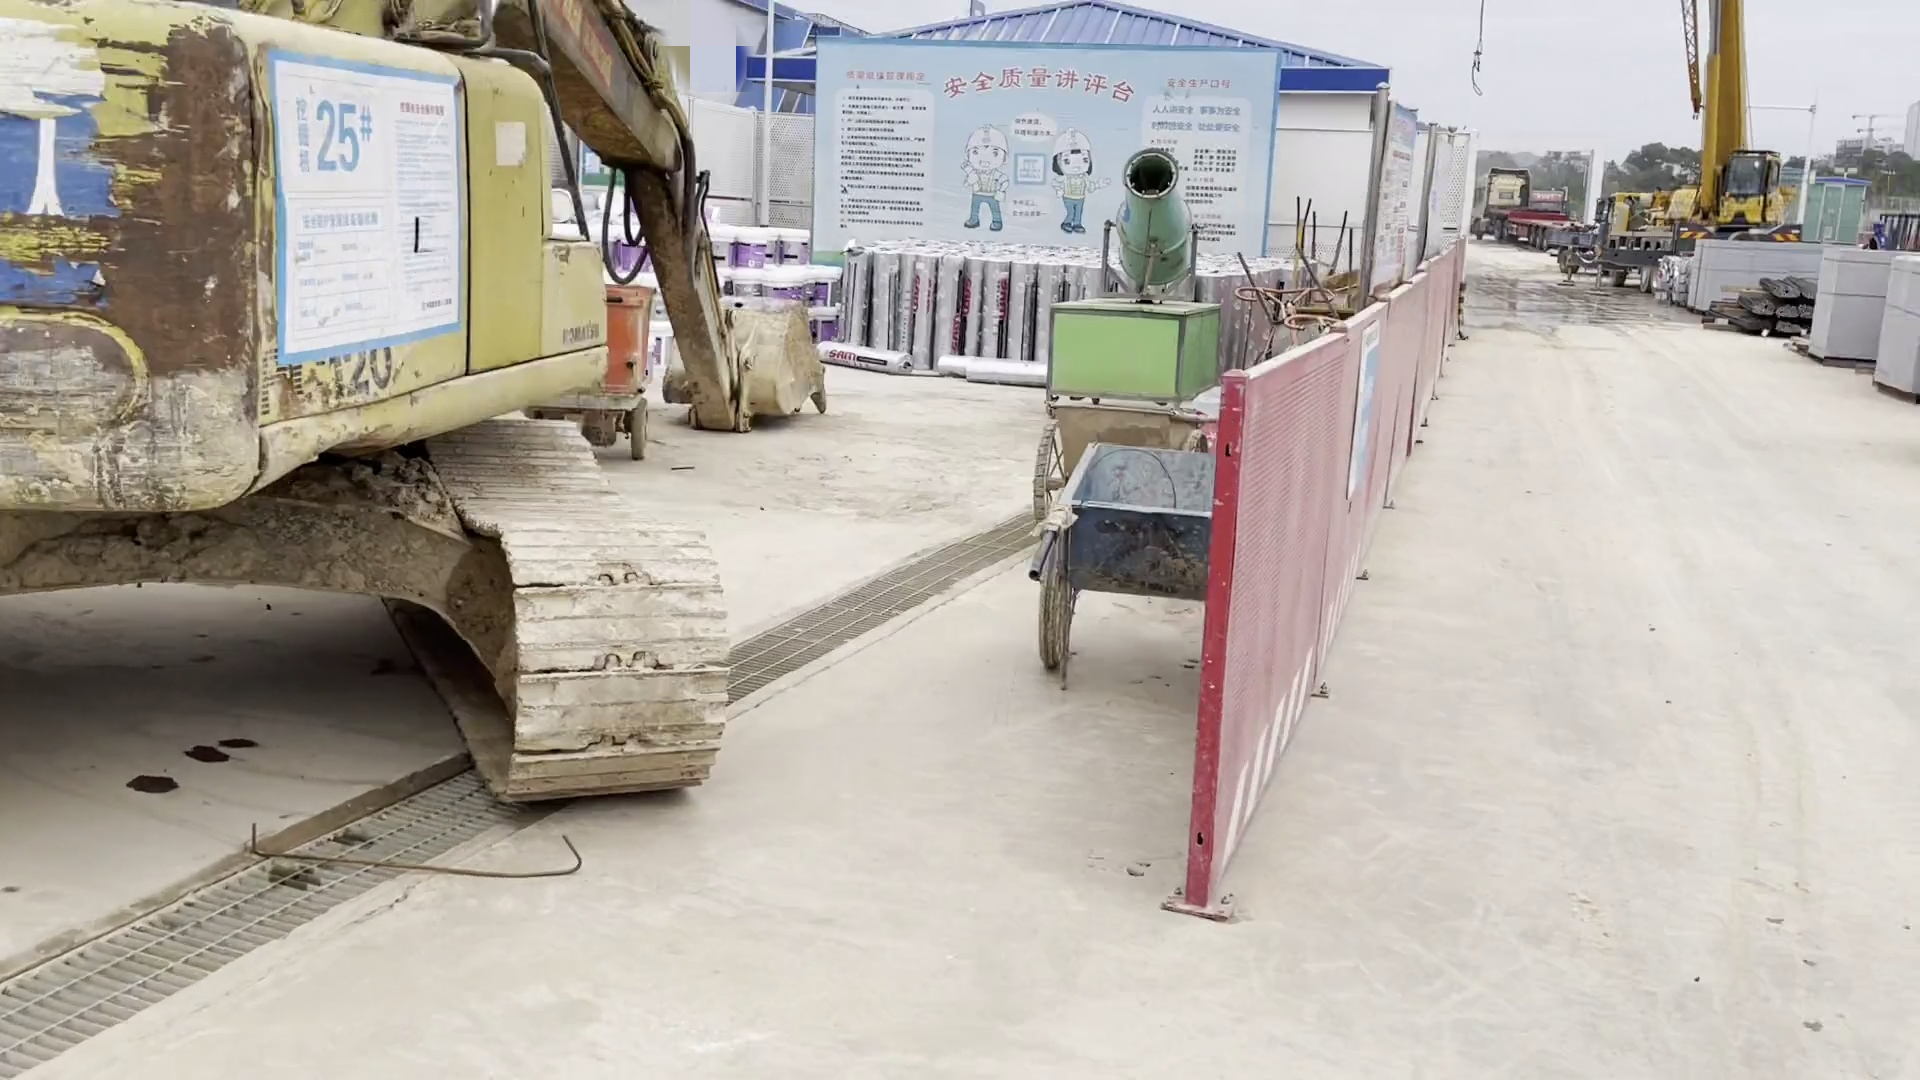fence: (1230, 240, 1458, 918)
handcart: (1019, 440, 1217, 688)
